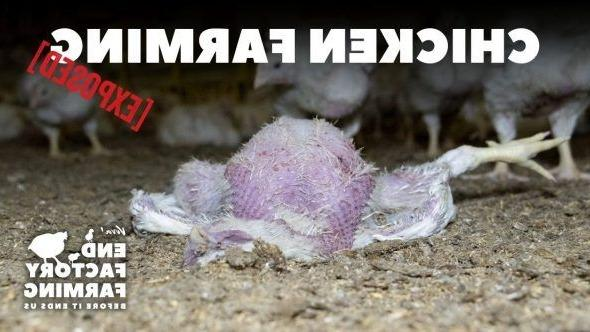AbNormal: (116, 115, 566, 251)
